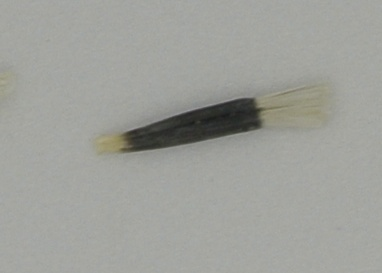เมล็ดดีติดกัน: (92, 81, 331, 157)
